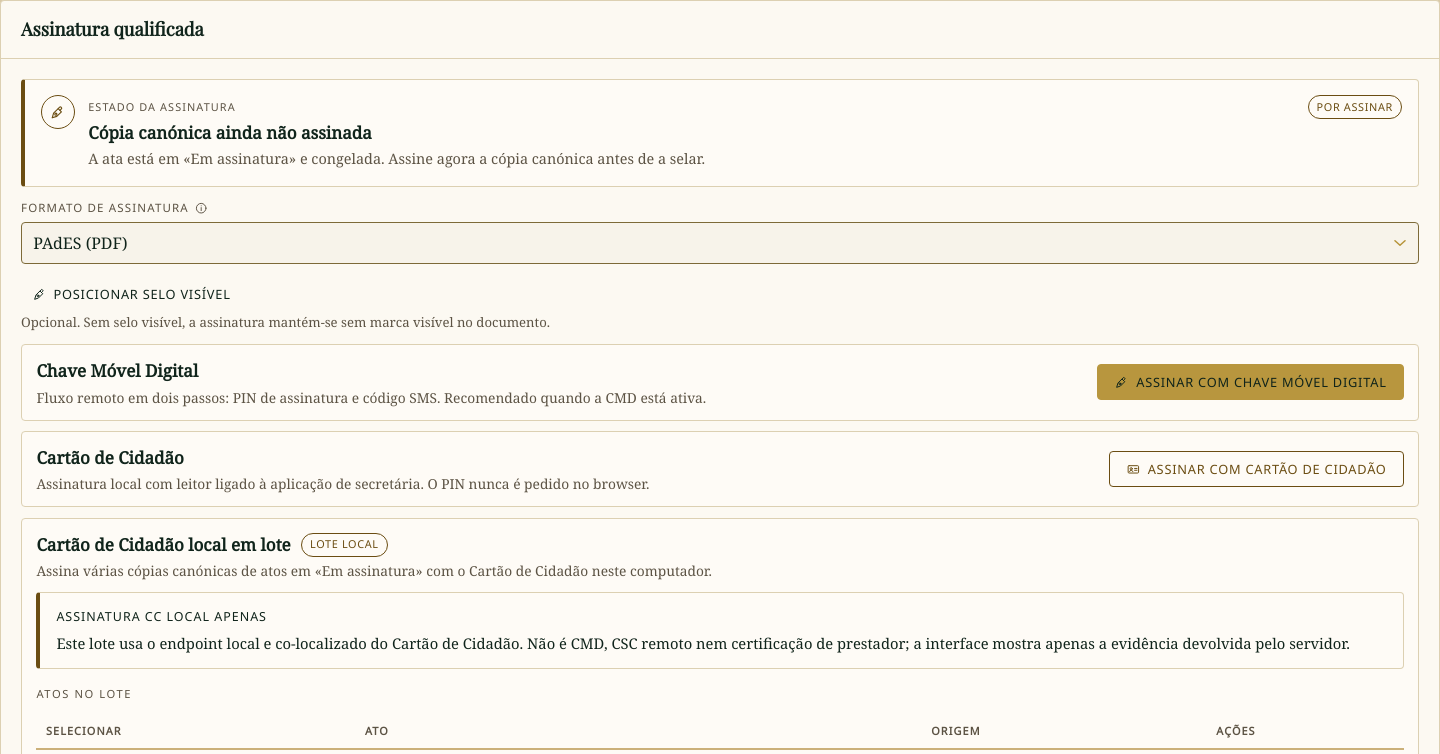
SigningPanel — Cartão de Cidadão › submits an optional in-app PIN and flips to the signed CC record + download
Click the button "Assinar com Cartão de Cidadão" at (1256, 469), box [1109,451,1404,487]
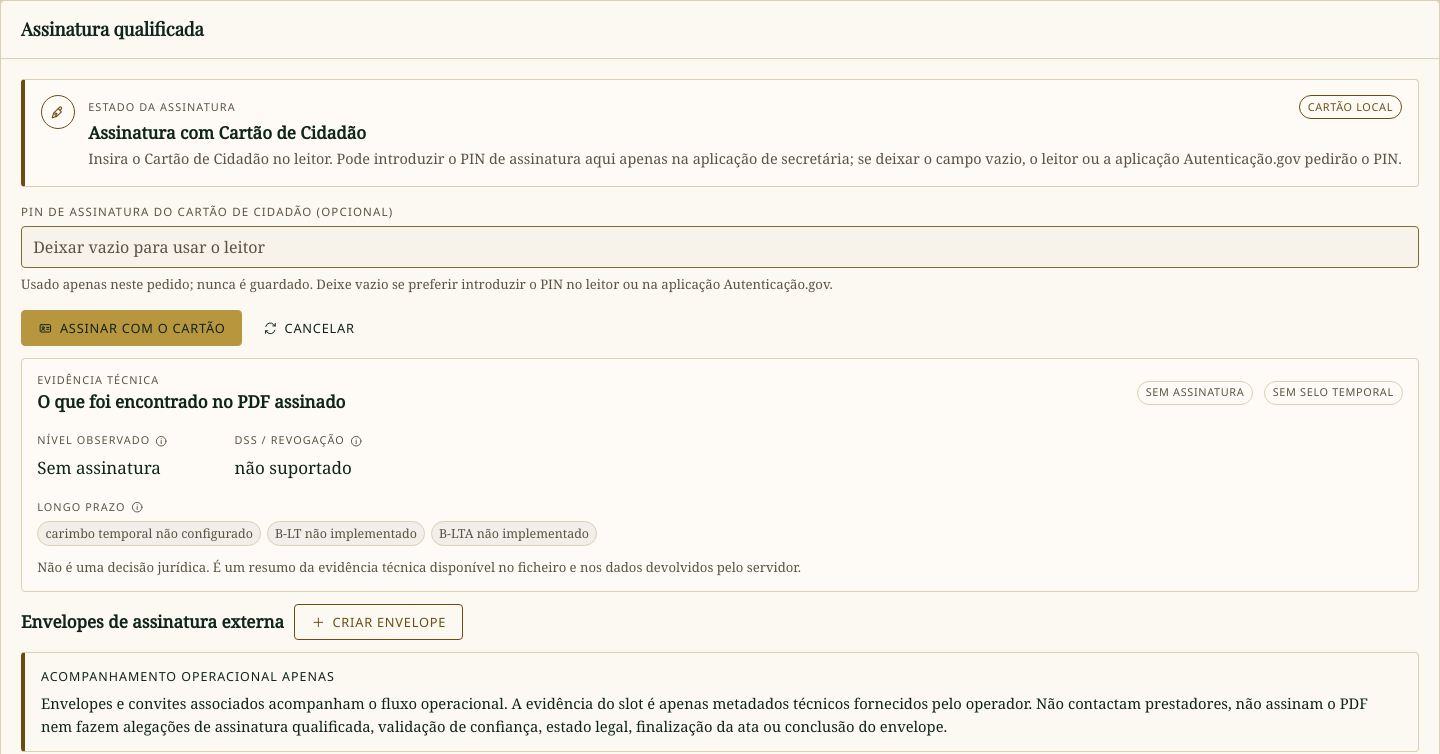
Type " 123456 " into the password field labelled "PIN de assinatura do Cartão de Cidadão (opcional)" at (720, 247), box [21,226,1419,268]
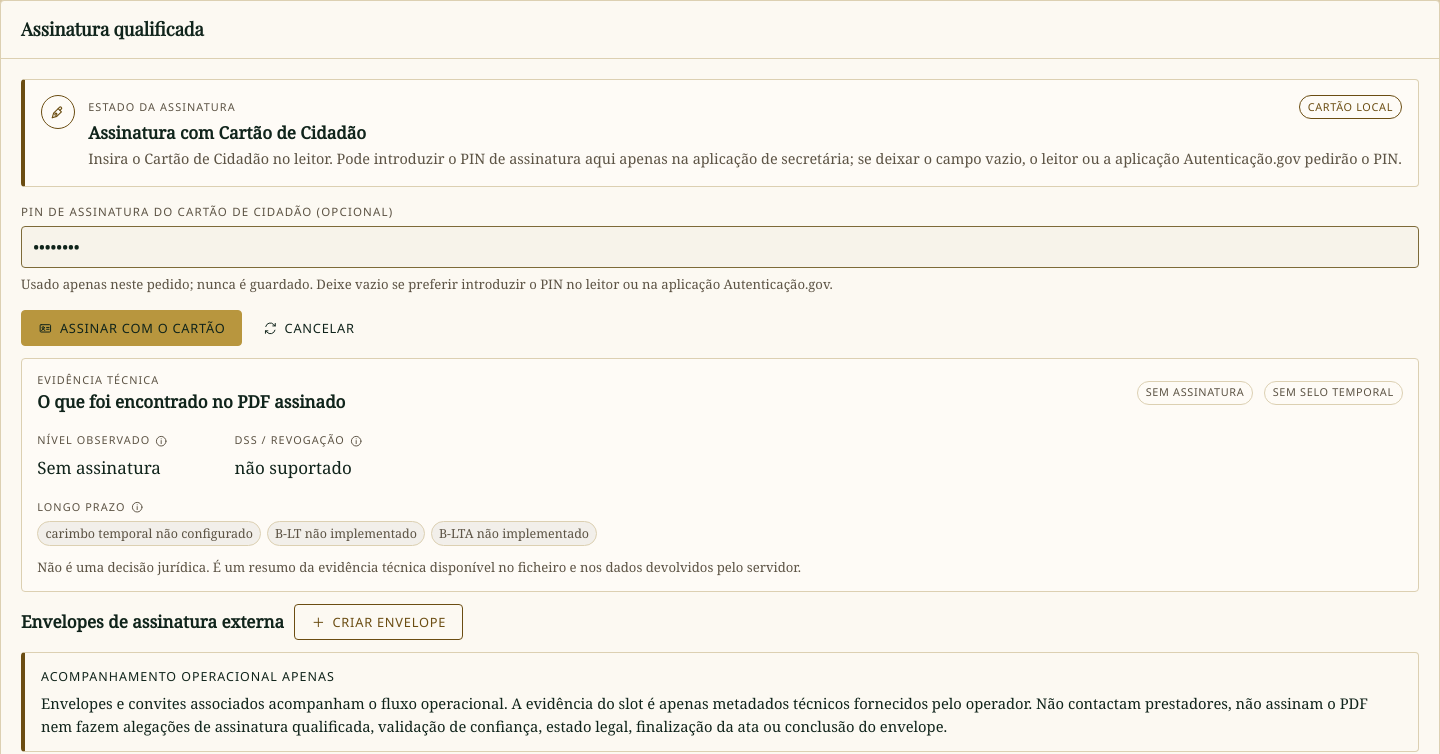
Click the button "Assinar com o cartão" at (132, 328), box [21,310,242,346]
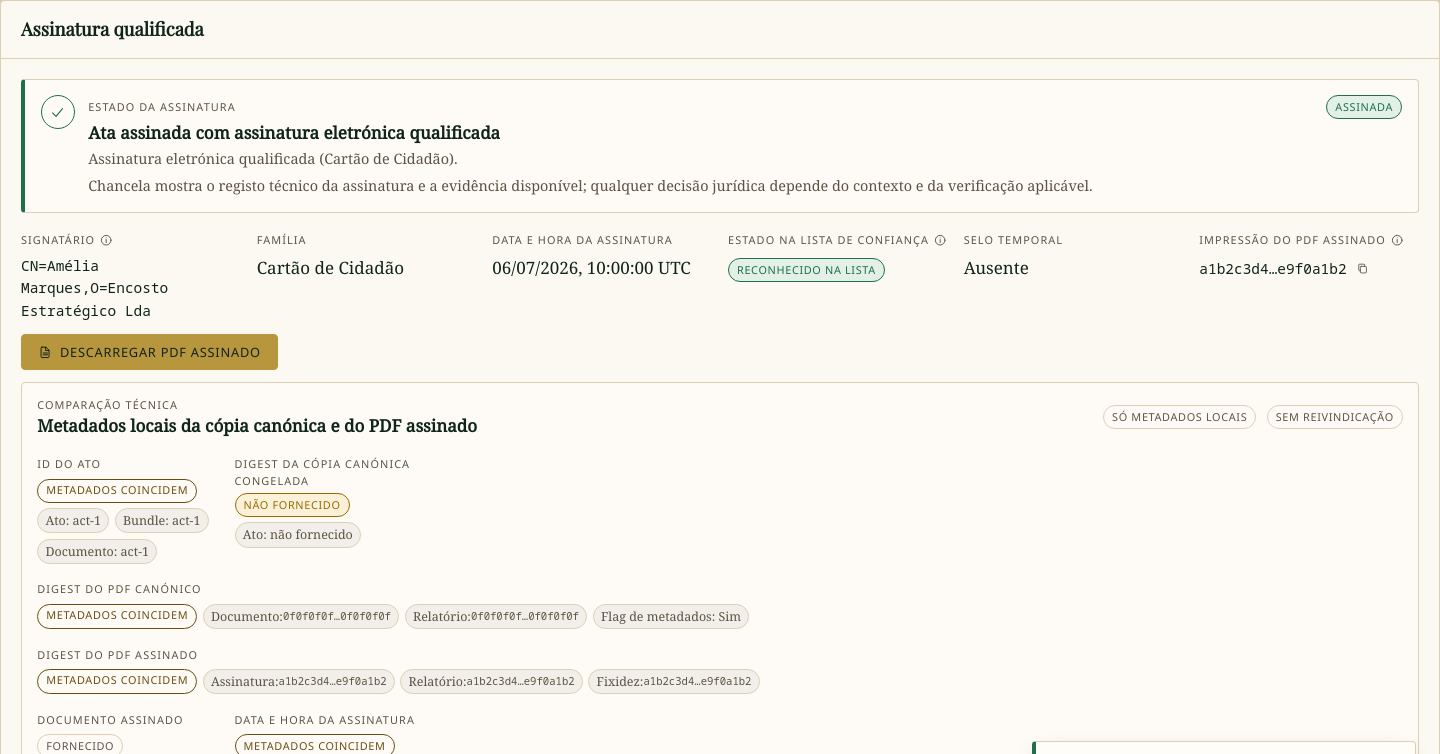
Result: the text "Assinatura eletrónica qualificada (Cartão de Cidadão)." is shown at [88,149,458,168]
Result: the button "Descarregar PDF assinado" is shown at [21,334,278,370]
